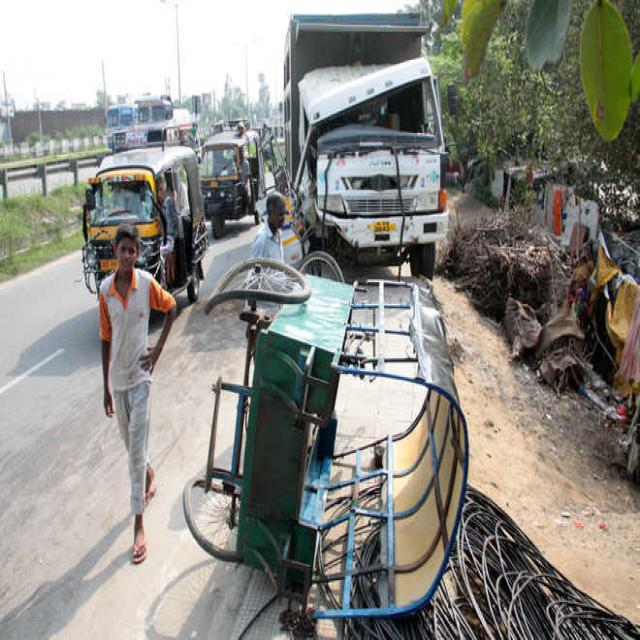accident: (184, 258, 469, 620), (284, 13, 449, 278)
autorickshaw: (81, 147, 209, 302), (202, 130, 268, 238)
bus: (108, 104, 135, 150)
truck: (120, 96, 199, 149)
